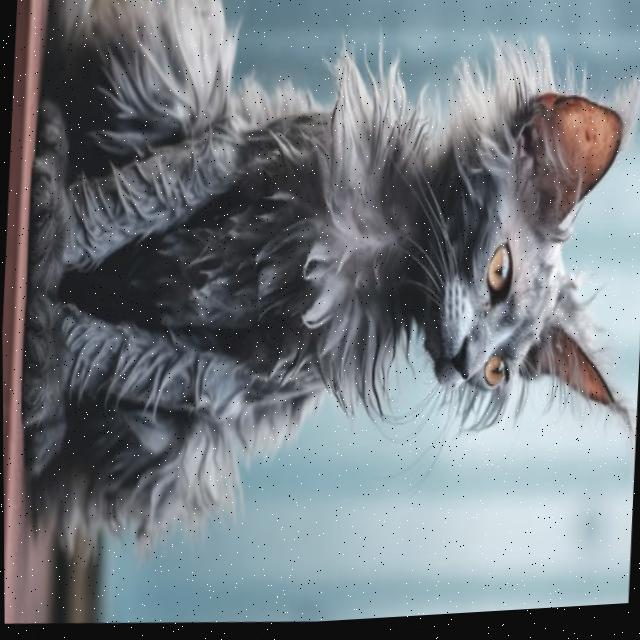Lykoi: (4, 0, 640, 587)
